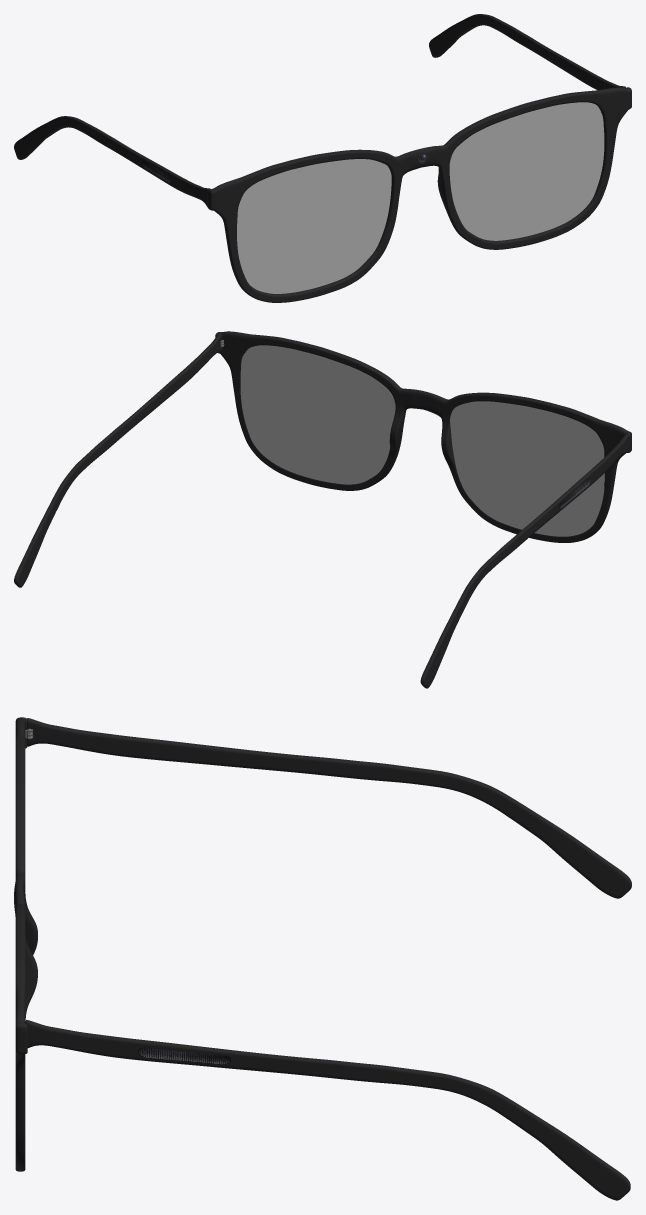
Rendered from sunglasses-spectar.gltf.
3 renders of one model, top to bottom at view 1: azimuth 30°, elevation 25°; view 2: azimuth 150°, elevation 25°; view 3: azimuth 270°, elevation 25°, orthographic. The views are drawn at different scales.
Visible parts, largest first — view 1: glasses-glass, glasses-rim, glasses-left, glasses-right; view 2: glasses-glass, glasses-rim, glasses-right, glasses-left; view 3: glasses-left, glasses-right, glasses-rim.
Part boxes in pixels (x1,y1,x2,y2): glasses-glass: (237, 102, 604, 293); glasses-rim: (207, 87, 631, 302); glasses-left: (14, 116, 210, 206); glasses-right: (429, 14, 625, 90); glasses-glass: (240, 345, 604, 536); glasses-rim: (215, 331, 631, 542); glasses-right: (14, 333, 224, 587); glasses-left: (420, 434, 628, 688); glasses-left: (25, 718, 631, 898); glasses-right: (25, 1020, 630, 1200); glasses-rim: (14, 717, 37, 1171).
Size of the model in its own units: 31.65 by 10.03 by 26.47.
3 materials, 2 textured.
